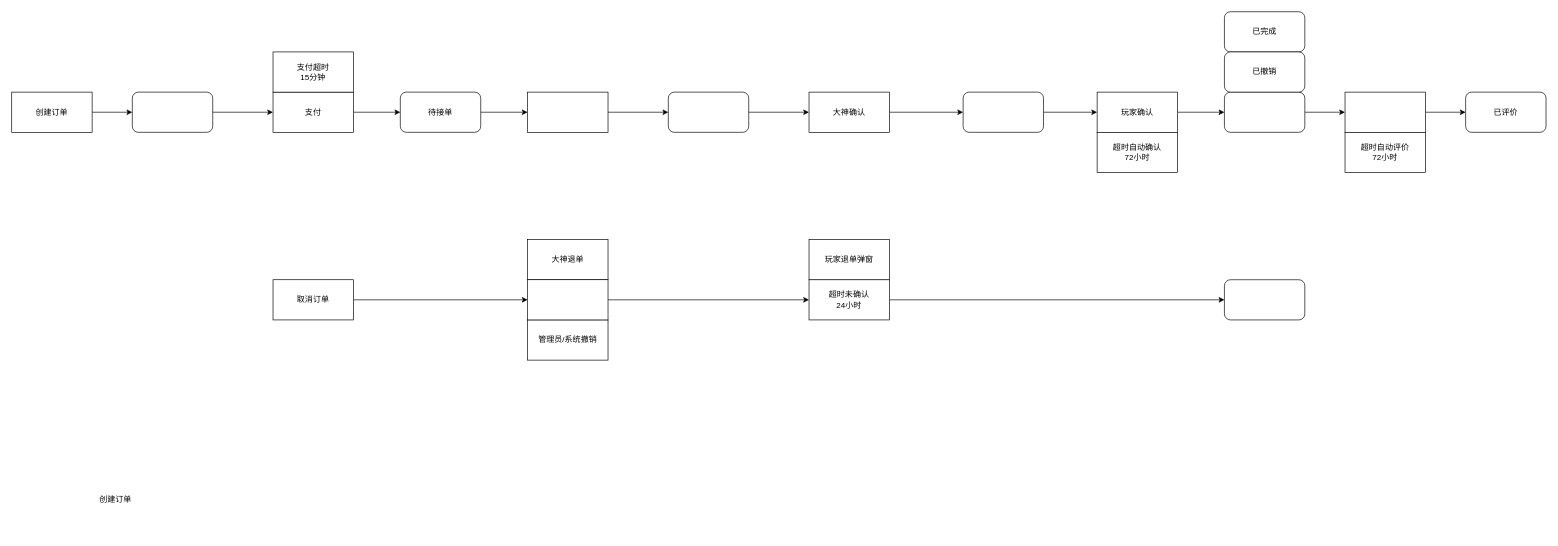
The diagram is 1558 pixels wide and 546 high, and some of its shapes have lost their labels. The centre of each missing label's shape, as x and y in pixels:
"大神接单" belongs at point 567,111.
"已退单" belongs at point 1264,299.
"待支付" belongs at point 172,111.
"待服务" belongs at point 708,111.
"待确认" belongs at point 1003,111.
"待评价" belongs at point 1264,111.
"评价" belongs at point 1384,111.
"超时未接单 10分钟" belongs at point 567,299.
